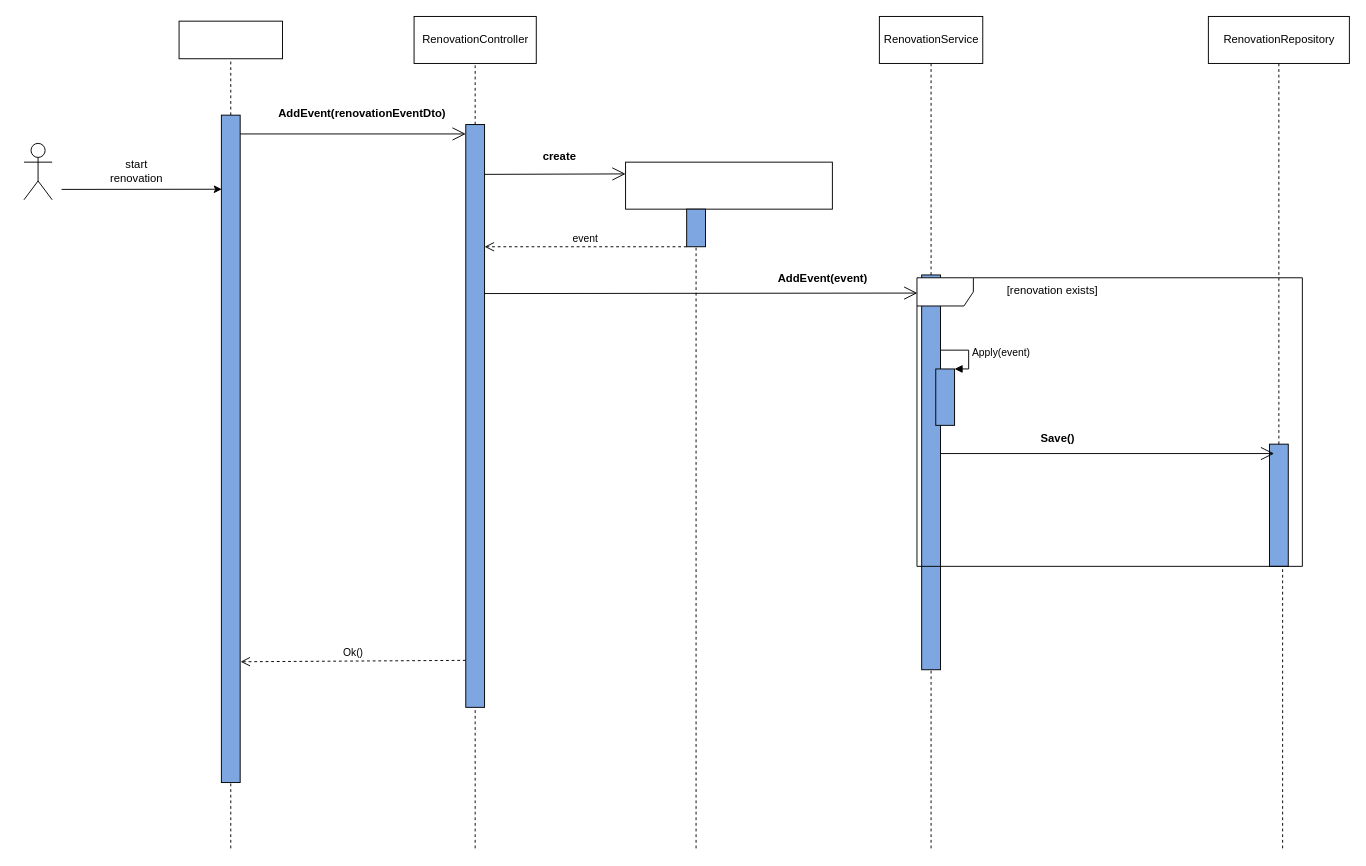
Image size: 1366x866. Some labels were removed from this diagram. Each missing label, with the box of its shape:
Intranet API: (178, 20, 282, 59)
Manager: (23, 142, 52, 200)
option: (916, 277, 1302, 566)
RenovationDomainEvent: DomainEvent: (625, 161, 832, 209)
